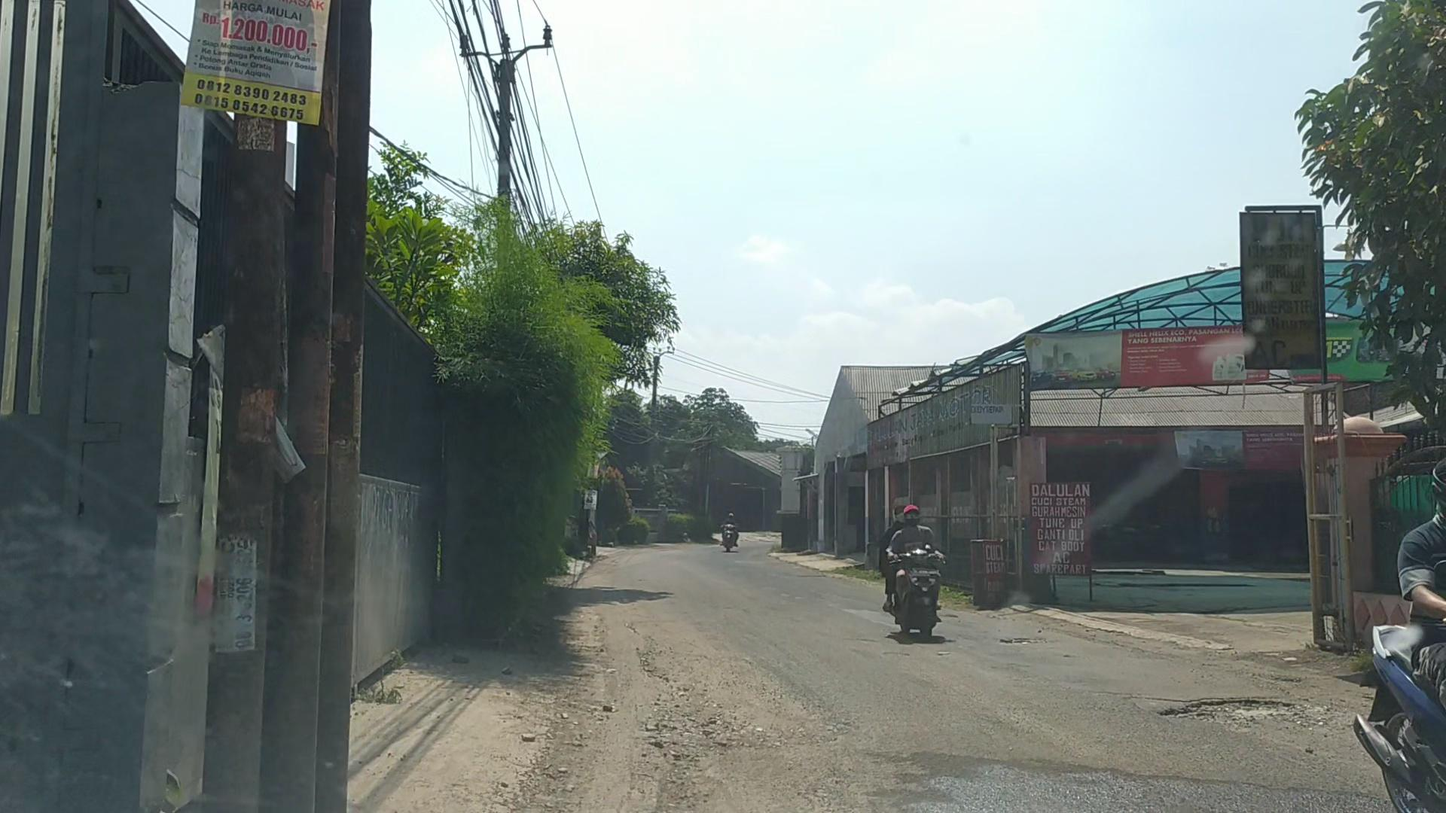pothole: (1156, 692, 1310, 735), (996, 635, 1048, 645)
